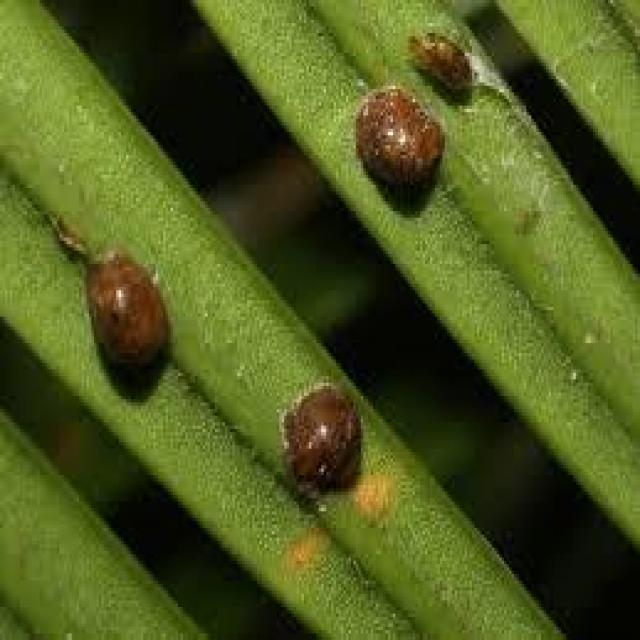Black Scale: (84, 251, 172, 399), (356, 82, 445, 211), (279, 379, 361, 508), (405, 33, 477, 102)
